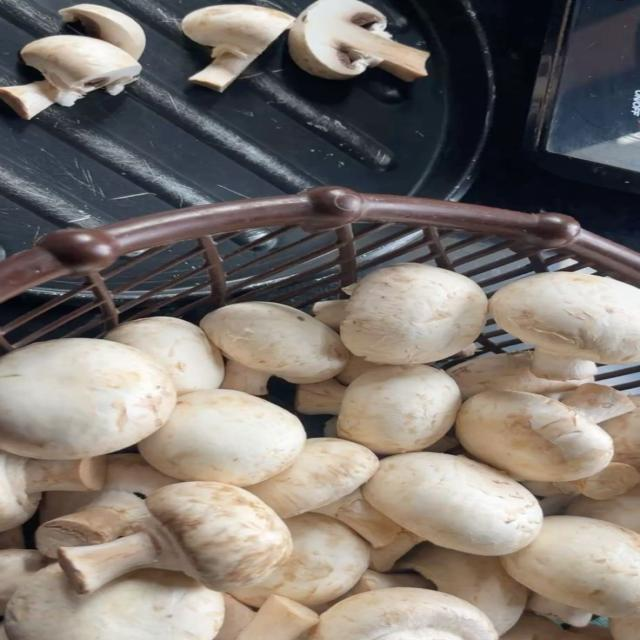champignon mushrooms: (59, 482, 292, 593), (0, 339, 175, 459), (363, 453, 542, 555), (139, 389, 306, 486), (5, 565, 223, 639), (491, 272, 639, 380), (340, 264, 487, 364), (36, 454, 177, 557), (456, 390, 613, 481), (501, 516, 639, 617), (232, 513, 369, 606), (200, 302, 347, 383), (0, 35, 141, 118), (399, 544, 528, 634), (289, 0, 428, 81), (338, 365, 460, 454), (247, 438, 379, 518), (182, 4, 294, 91), (309, 588, 498, 639), (106, 317, 224, 395), (0, 452, 105, 530), (447, 351, 593, 399), (314, 488, 402, 552), (314, 570, 435, 612), (59, 4, 146, 59), (524, 463, 639, 500), (237, 595, 319, 639), (567, 485, 639, 533), (0, 549, 46, 615), (557, 463, 639, 500), (562, 383, 634, 423), (601, 396, 639, 469), (370, 530, 424, 572), (527, 593, 592, 627), (0, 81, 57, 119), (500, 614, 584, 639), (350, 570, 433, 594), (38, 491, 96, 524), (295, 379, 346, 415), (215, 594, 255, 639), (220, 360, 271, 395), (336, 355, 378, 385), (313, 300, 346, 330), (567, 620, 613, 639), (540, 494, 575, 516), (610, 619, 639, 639), (424, 436, 459, 452), (0, 527, 25, 549), (323, 416, 338, 438)
